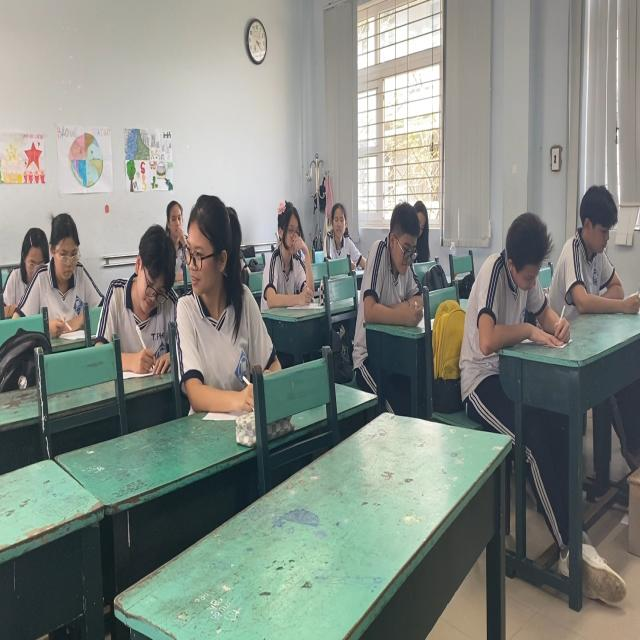cheating: (180, 189, 256, 402)
not_cheating: (552, 181, 640, 318), (473, 212, 554, 337), (110, 226, 187, 354), (34, 205, 104, 340), (256, 192, 322, 309), (368, 199, 426, 316), (317, 188, 356, 270), (158, 192, 185, 254)
